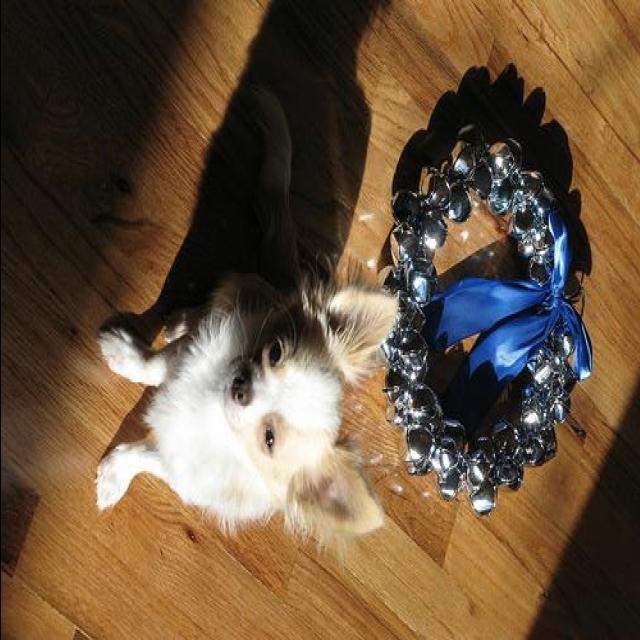chihuahua: (94, 264, 406, 546)
